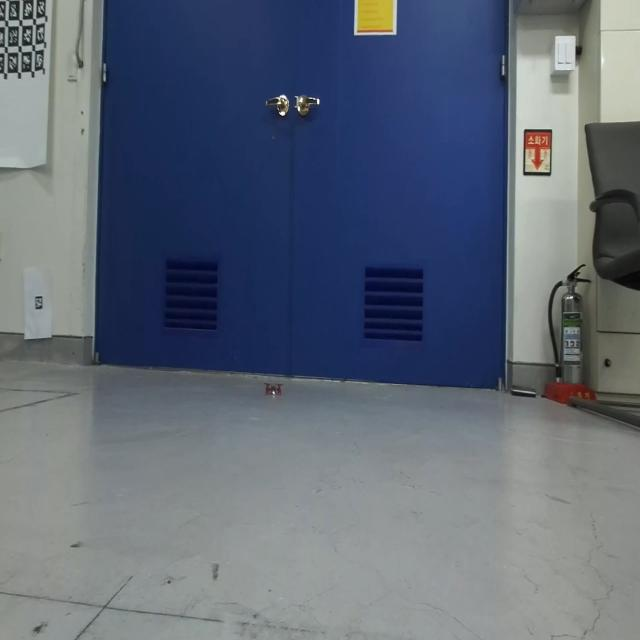crazyflie: (261, 375, 286, 403)
